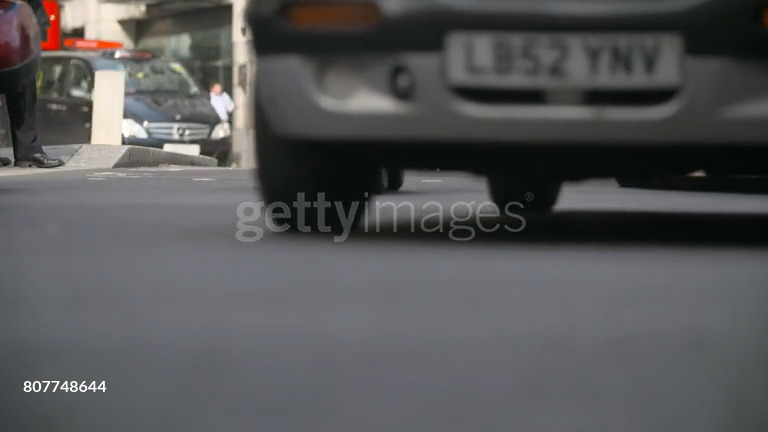car number: (448, 30, 681, 90)
